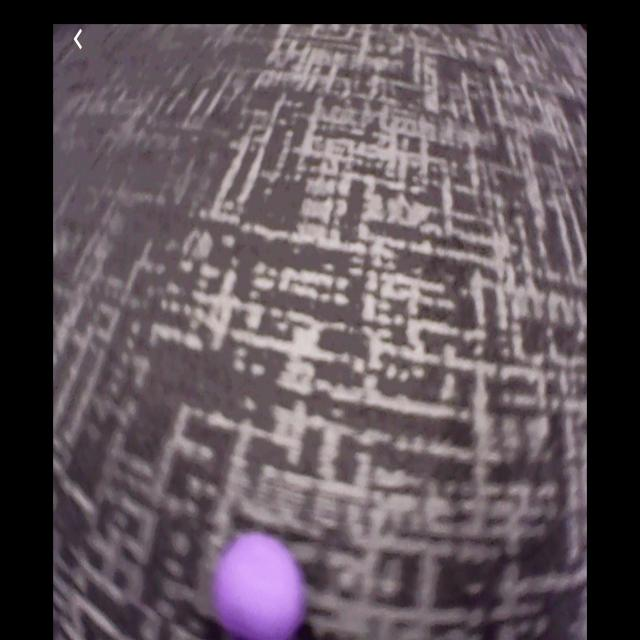ball: (216, 532, 299, 640)
